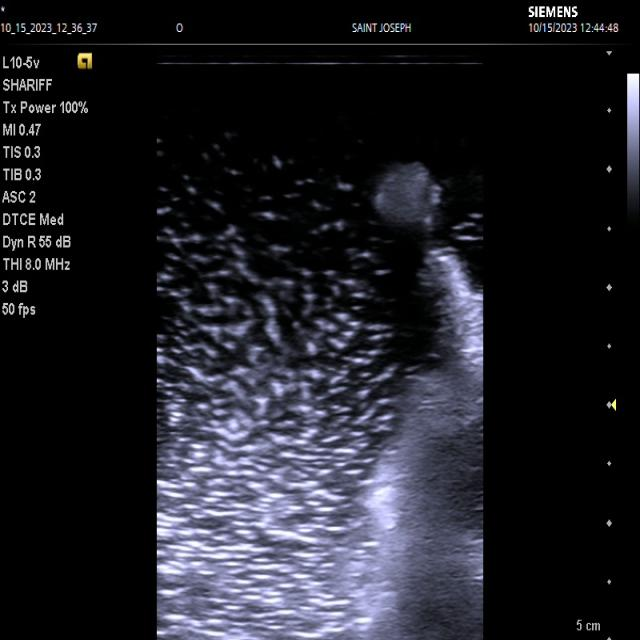tissue: (386, 245, 482, 640), (378, 163, 432, 222)
